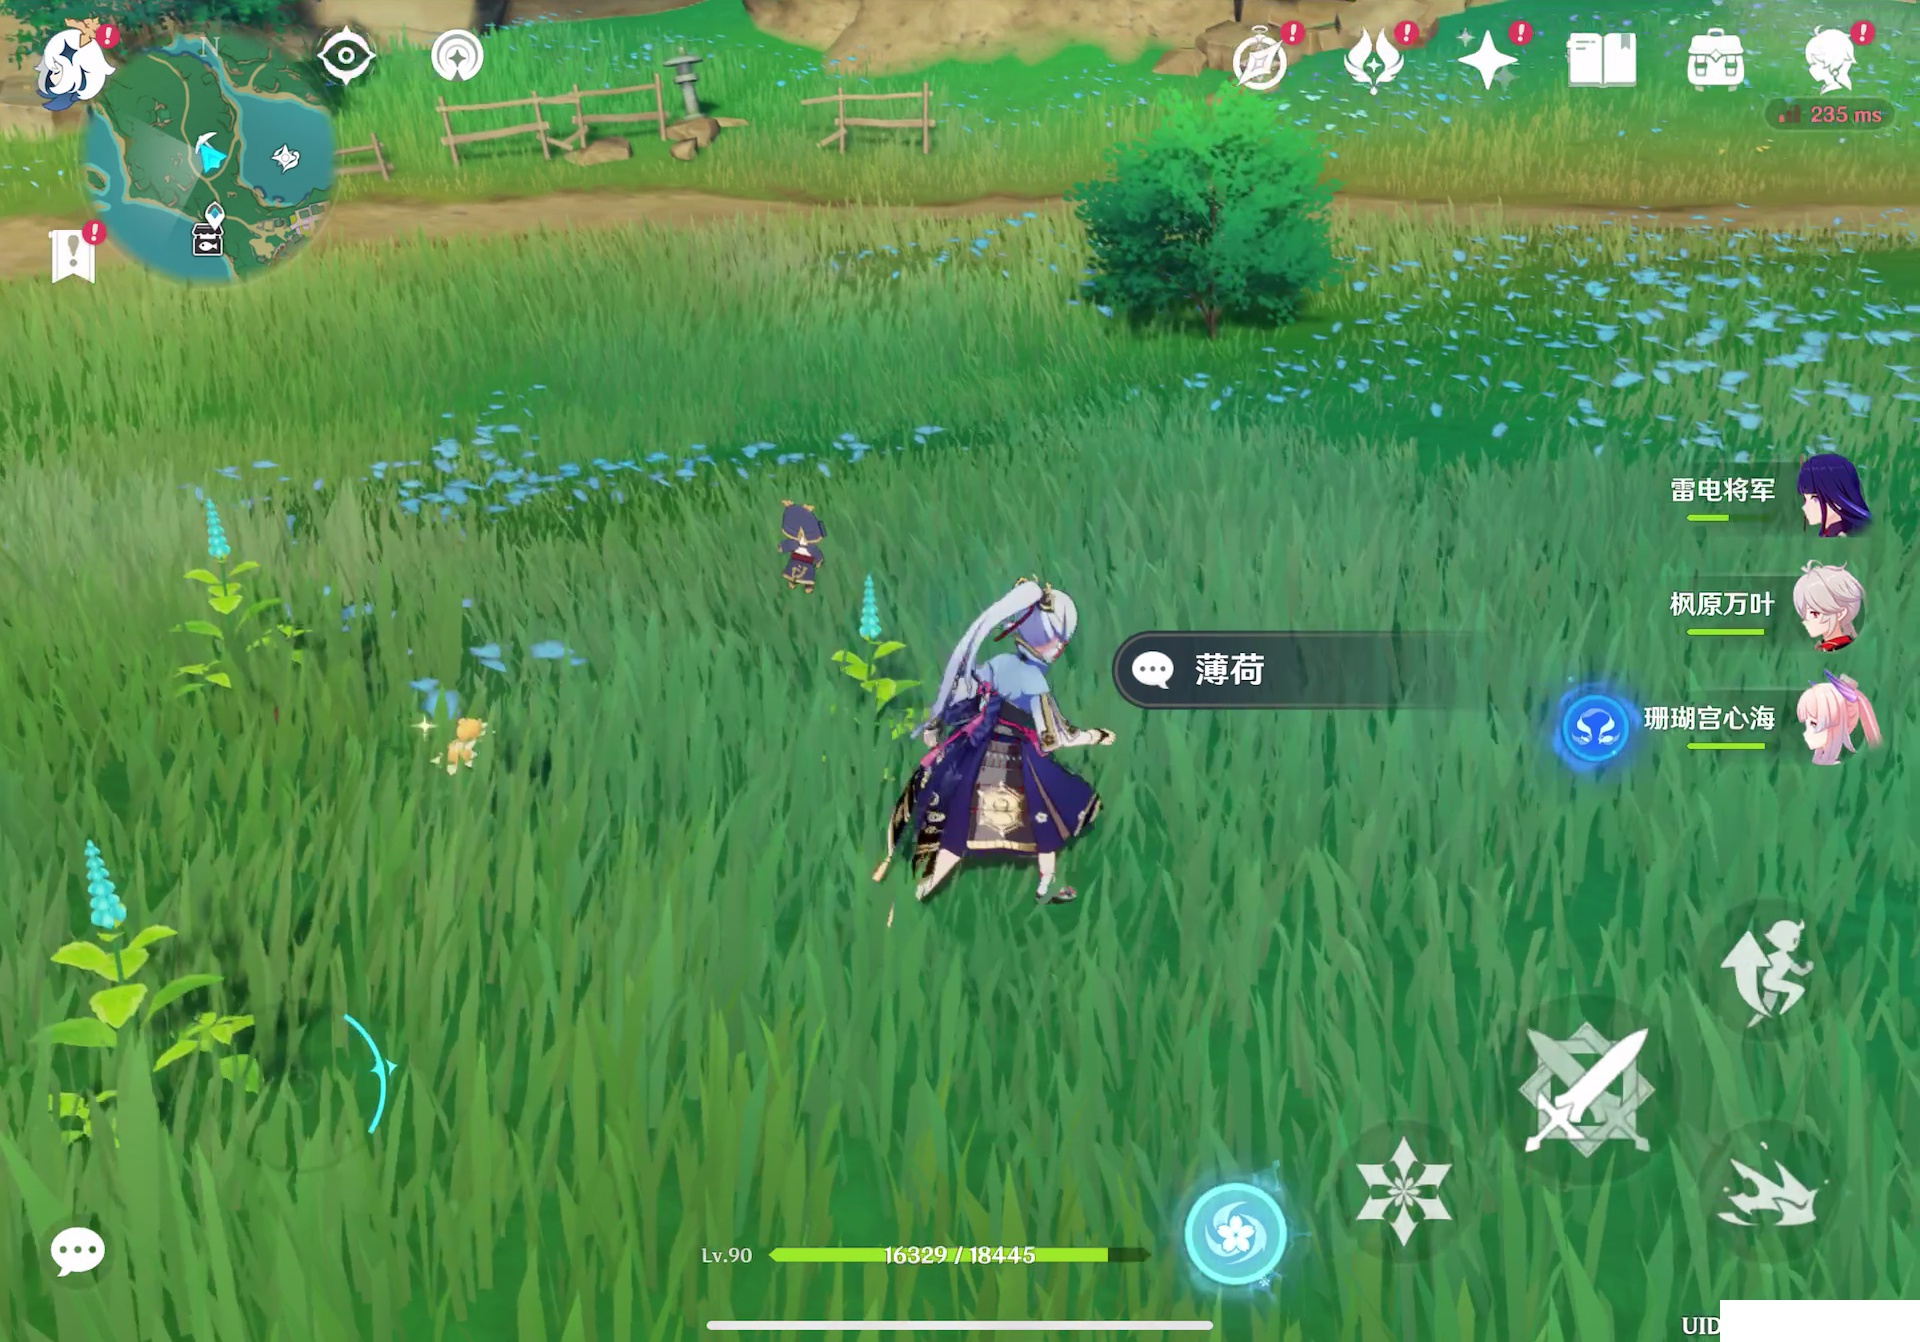没用的甜甜花: (419, 713, 509, 791)
没用的薄荷: (53, 842, 260, 1145), (156, 496, 312, 705), (833, 563, 919, 742)
神里绫龟: (871, 551, 1106, 938)
